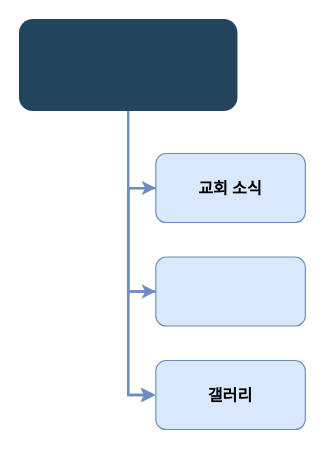
The diagram is 324 pixels wide and 449 high, and some of its shapes have lost their labels. Here are the shapes that lost their labels. From the top down, the box of each, then its label:
(18, 18, 237, 110): Home
(155, 256, 305, 326): 주보
